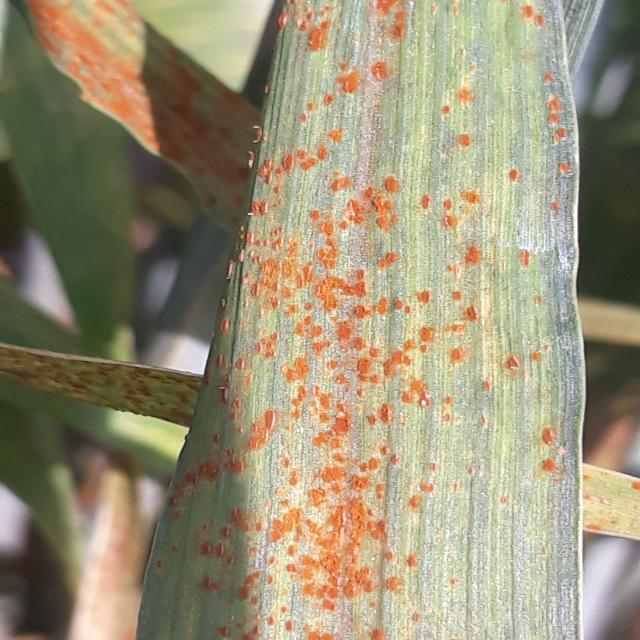orang_rust: (133, 3, 591, 640), (7, 0, 255, 227), (0, 336, 212, 430), (576, 448, 640, 556)
